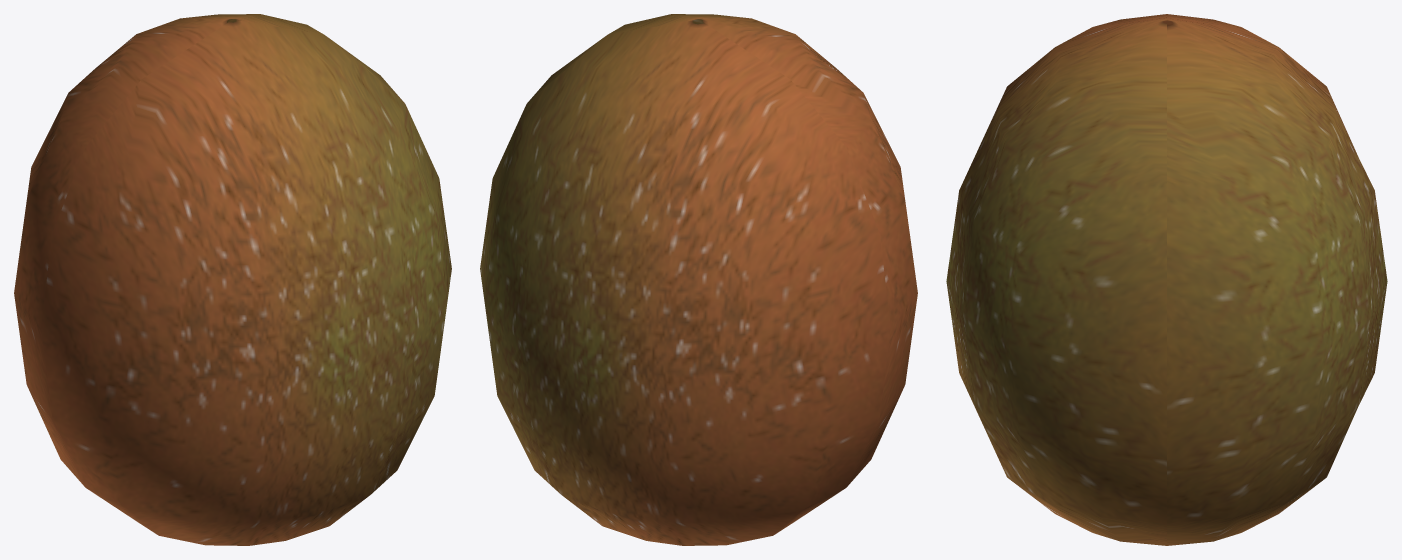
File: kiwi.FBX
3 views of the same model, side by side, from view 1: azimuth 30°, elevation 25°; view 2: azimuth 150°, elevation 25°; view 3: azimuth 270°, elevation 25° (orthographic).
Parts seen in each view (by area): view 1: Kiwi; view 2: Kiwi; view 3: Kiwi.
Part boxes in pixels (bbox=[...]): Kiwi: bbox=[14, 14, 451, 545]; Kiwi: bbox=[480, 14, 917, 545]; Kiwi: bbox=[946, 14, 1387, 545].
Size of the model in its own units: 4.71 by 6.04 by 4.71.
